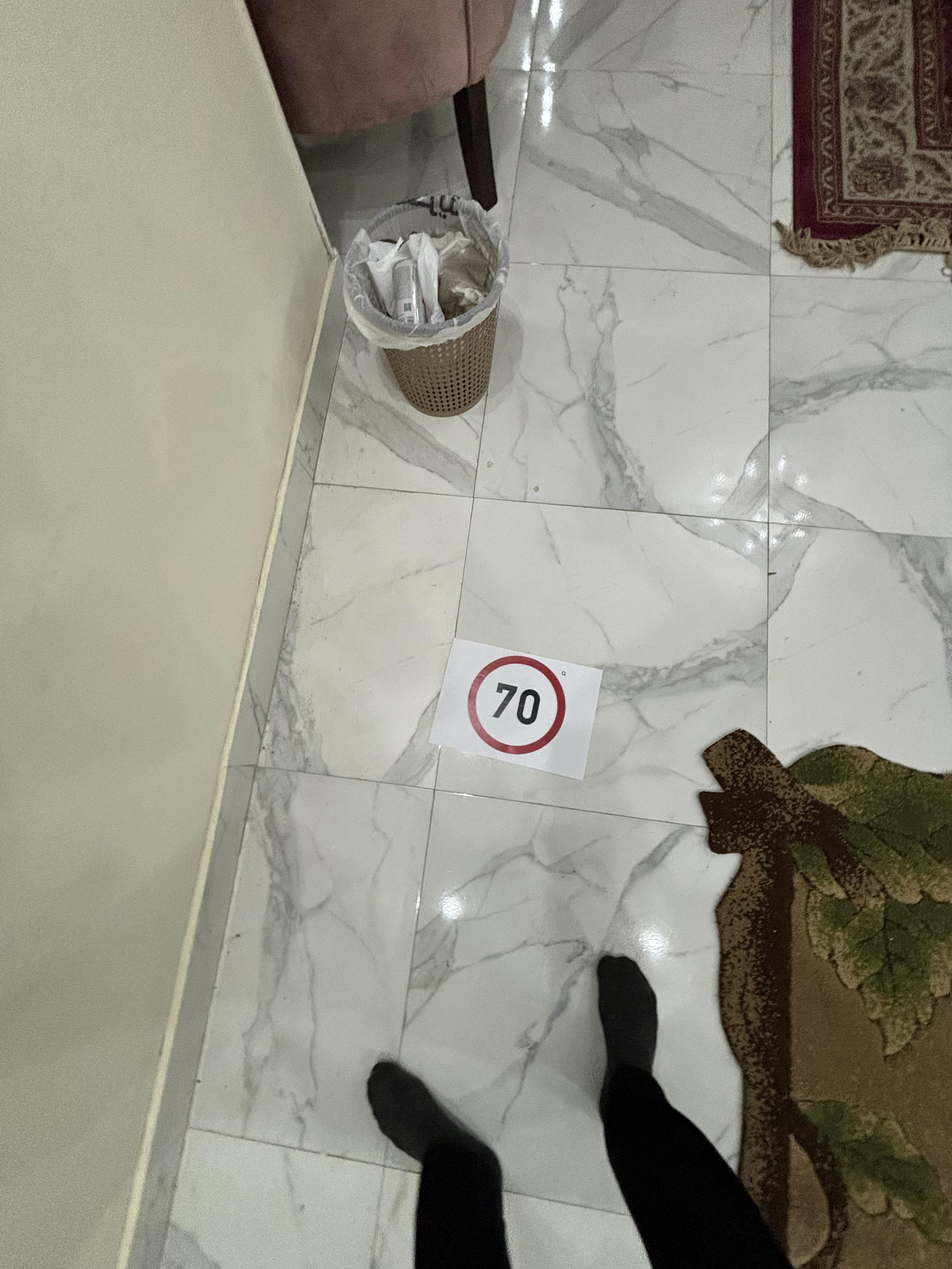70-Speed: (463, 649, 570, 758)
